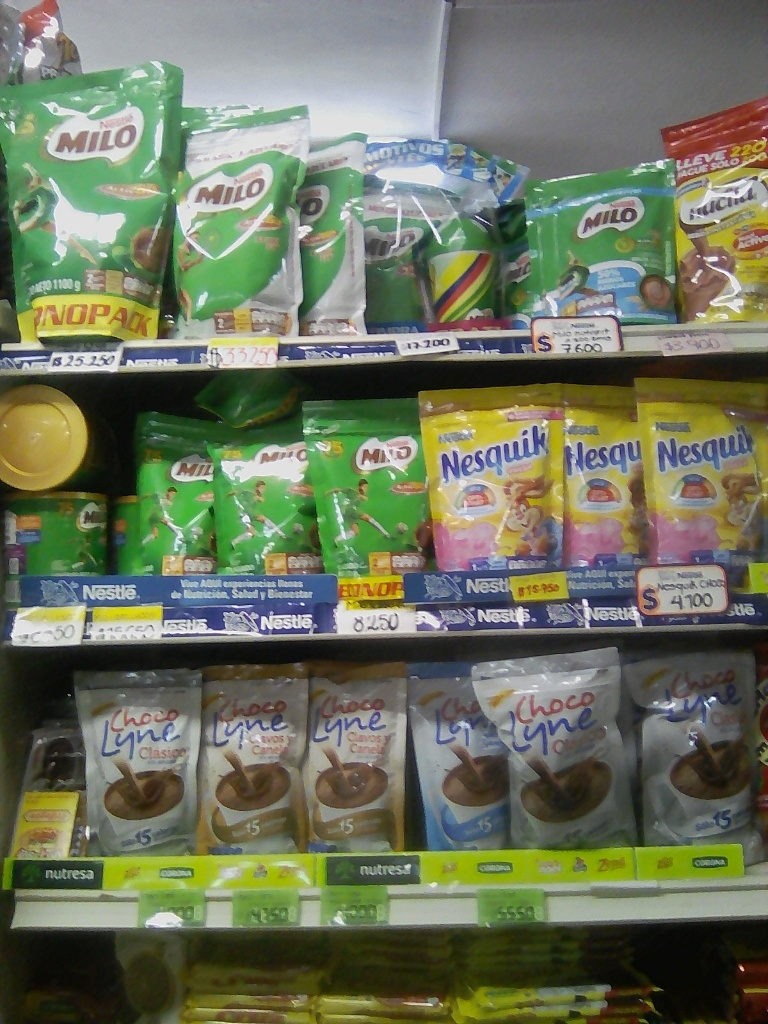COL0170203DYP25000: (298, 397, 433, 579)
COL0170203LAT40000: (5, 482, 112, 601)
COL0170205DYP20000: (528, 174, 676, 325)
COL0170305DYP20000: (420, 385, 567, 577)
